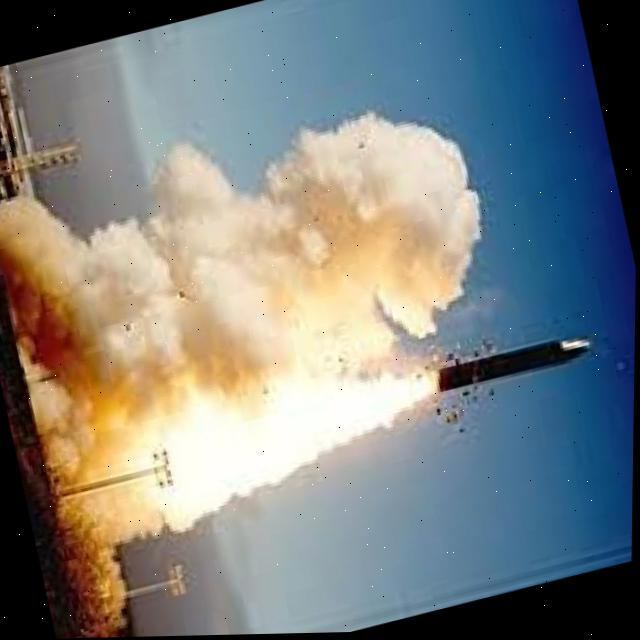missile: (428, 327, 601, 405)
